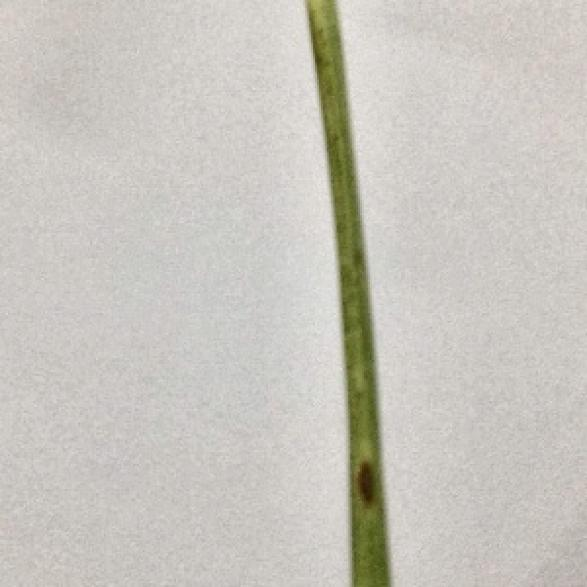Leaf_smut: (349, 442, 386, 507)
